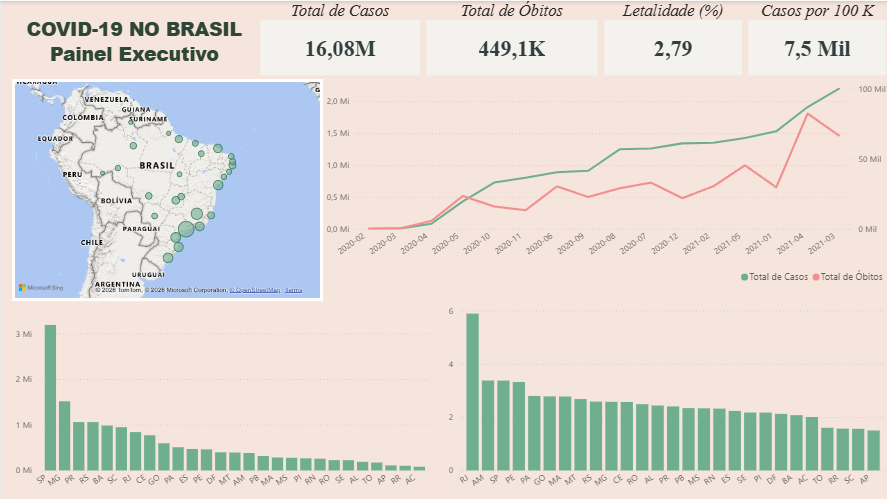

Layout of this report page (visuals, bound fields, positions):
{"tool":"powerbi","page":{"name":"Visão Geral","canvas":[1280,720],"ordinal":0},"visuals":[{"type":"cardVisual","title":"Total de Casos","fields":{"Data":["Formatação/Apoio.Total Casos (Formatado)"]},"box":[368,0,240,112],"z":0},{"type":"cardVisual","title":"Total de  Óbitos","fields":{"Data":["Formatação/Apoio.Total Óbitos (Formatado)"]},"box":[608,0,256,112],"z":1000},{"type":"cardVisual","title":"Letalidade (%)","fields":{"Data":["Medidas Principais.Letalidade %"]},"box":[864,0,208,112],"z":2000},{"type":"cardVisual","title":"Casos por 100 K","fields":{"Data":["Medidas Principais.Casos por 100k Hab"]},"box":[1072,0,208,112],"z":3000},{"type":"lineChart","fields":{"Category":["Calendario.AnoMes"],"Y2":["Sum(covid19 vw_fato_covid.novos_obitos)"],"Y":["KPI.Total Casos"]},"box":[464,112,816,304],"z":4000},{"type":"columnChart","fields":{"Category":["Estado.Estado"],"Y":["Medidas Principais.Total Casos na Ultima Data"]},"box":[16,432,608,288],"z":5000},{"type":"columnChart","fields":{"Category":["Estado.Estado"],"Y":["Medidas Principais.Letalidade %"]},"box":[640,432,640,288],"z":6000},{"type":"textbox","box":[16,16,352,96],"z":7000},{"type":"map","fields":{"Category":["covid19 vw_fato_covid.UF com País"],"Size":["Sum(covid19 vw_fato_covid.novos_casos)"]},"box":[16,112,448,320],"z":8000}]}

Visuals, with their boxes in screenshot pixels (x1, y1, x2, y2), scaled from the page's 1280x720 canvas onto the 887x499 screenshot:
"Total de Casos" cardVisual: <box>255,0,421,78</box>
"Total de  Óbitos" cardVisual: <box>421,0,599,78</box>
"Letalidade (%)" cardVisual: <box>599,0,743,78</box>
"Casos por 100 K" cardVisual: <box>743,0,886,78</box>
lineChart - Calendario.AnoMes x Sum(covid19 vw_fato_covid.novos_obitos): <box>322,78,886,288</box>
columnChart - Estado.Estado x Medidas Principais.Total Casos na Ultima Data: <box>11,299,432,498</box>
columnChart - Estado.Estado x Medidas Principais.Letalidade %: <box>444,299,886,498</box>
textbox: <box>11,11,255,78</box>
map - covid19 vw_fato_covid.UF com País x Sum(covid19 vw_fato_covid.novos_casos): <box>11,78,322,299</box>
